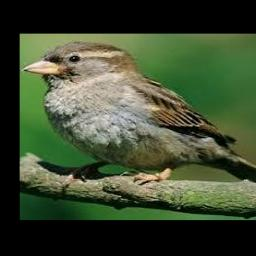Sparrow: (22, 42, 256, 188)
